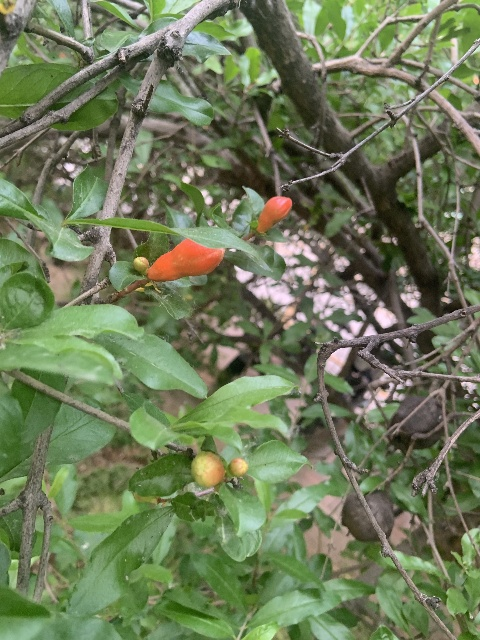bud: (147, 238, 225, 281), (256, 194, 292, 233), (191, 450, 225, 486), (227, 457, 247, 478)
